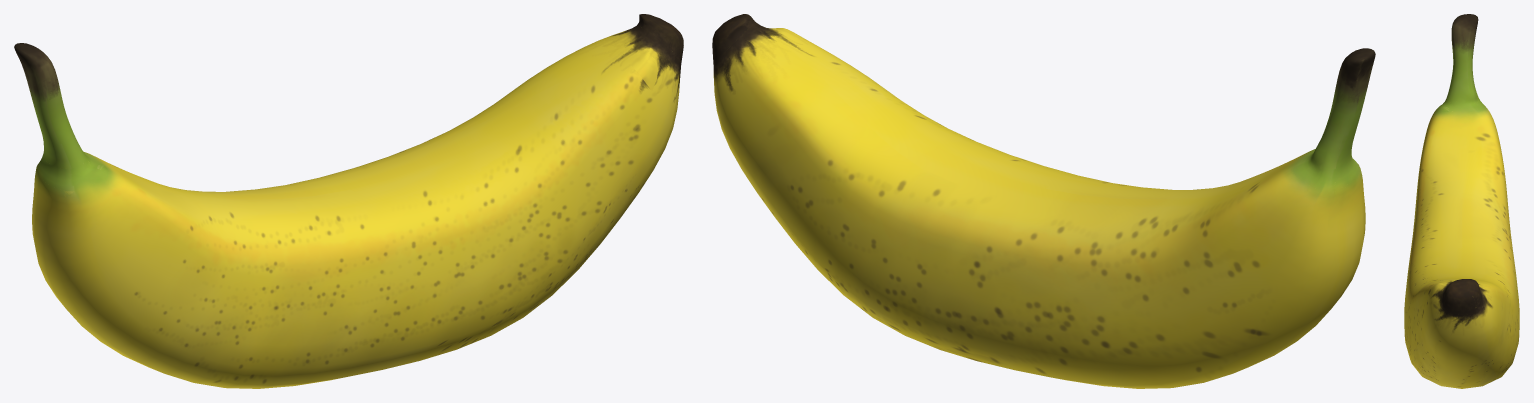
3 views of the same model, side by side, from view 1: azimuth 30°, elevation 25°; view 2: azimuth 150°, elevation 25°; view 3: azimuth 270°, elevation 25° (orthographic). The views are drawn at different scales.
Visible parts, largest first — view 1: Banana.geo; view 2: Banana.geo; view 3: Banana.geo.
Part boxes in pixels (x1,y1,x2,y2): Banana.geo: [14, 14, 683, 388]; Banana.geo: [712, 14, 1375, 388]; Banana.geo: [1404, 14, 1519, 388].
Bounding box in the file's own units: 0.8783 × 0.501 × 0.2157.
Materials: 1 (1 with a texture image).
